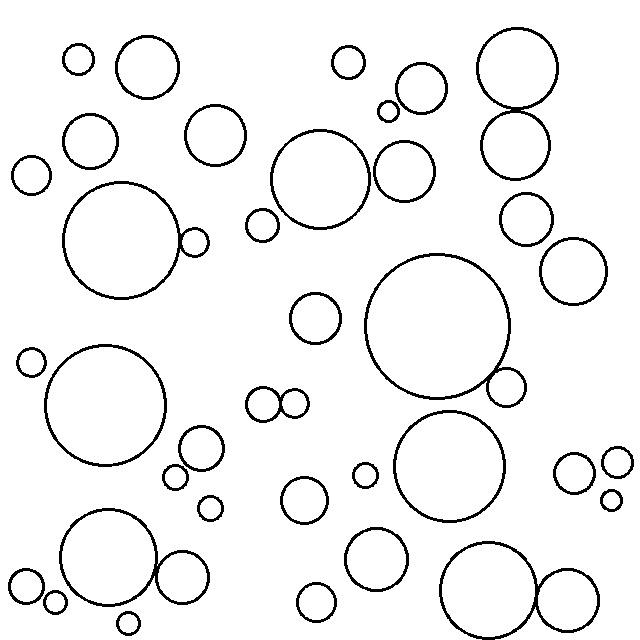circle: (362, 250, 513, 403), (43, 341, 170, 469), (60, 180, 183, 302), (390, 408, 510, 527), (269, 125, 375, 232), (57, 503, 160, 612), (438, 538, 539, 640), (475, 23, 564, 111), (476, 107, 554, 184), (536, 234, 611, 310), (113, 30, 184, 104), (342, 524, 413, 595), (536, 564, 604, 635), (183, 99, 250, 170), (373, 136, 439, 205), (60, 108, 122, 172), (496, 188, 557, 250), (392, 58, 452, 118), (153, 548, 213, 607), (285, 288, 344, 347), (276, 475, 334, 528), (176, 422, 229, 474), (292, 576, 341, 627), (552, 448, 599, 498), (484, 364, 531, 410), (9, 151, 55, 196), (327, 39, 370, 84), (4, 566, 47, 608), (57, 39, 99, 80), (242, 383, 283, 425), (243, 204, 283, 246), (598, 441, 638, 483), (178, 223, 214, 261), (14, 343, 49, 380), (278, 385, 313, 420), (350, 457, 383, 493), (158, 461, 192, 495), (195, 492, 229, 524), (114, 606, 146, 637), (598, 485, 627, 517), (41, 585, 69, 618), (376, 95, 404, 126)
